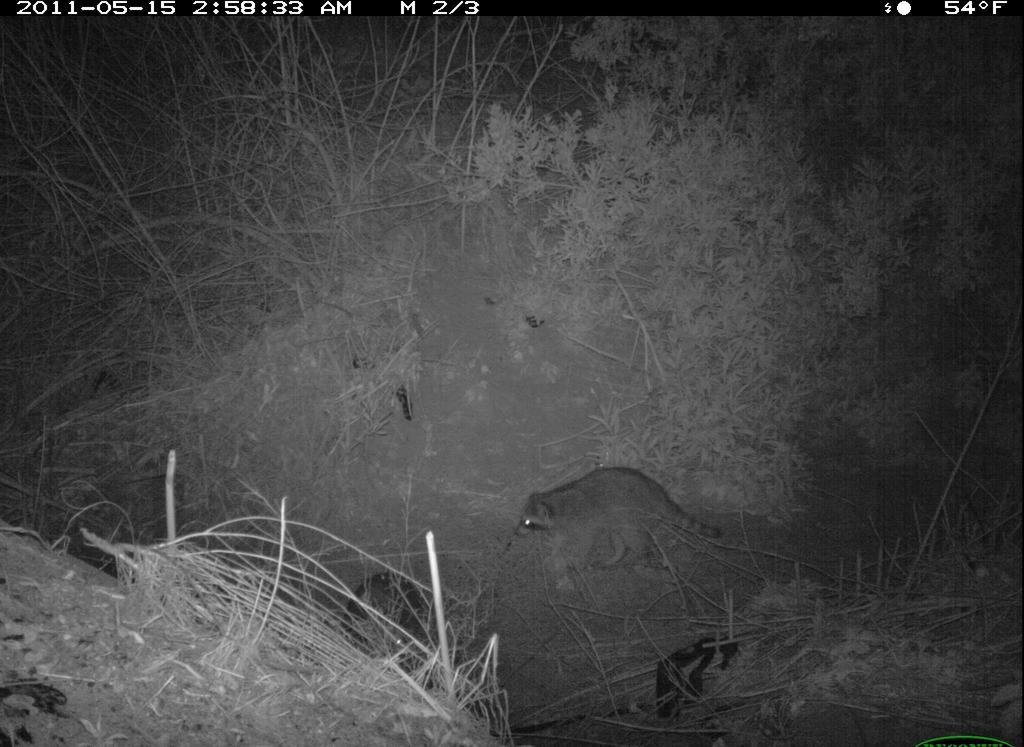raccoon: (514, 463, 729, 577)
